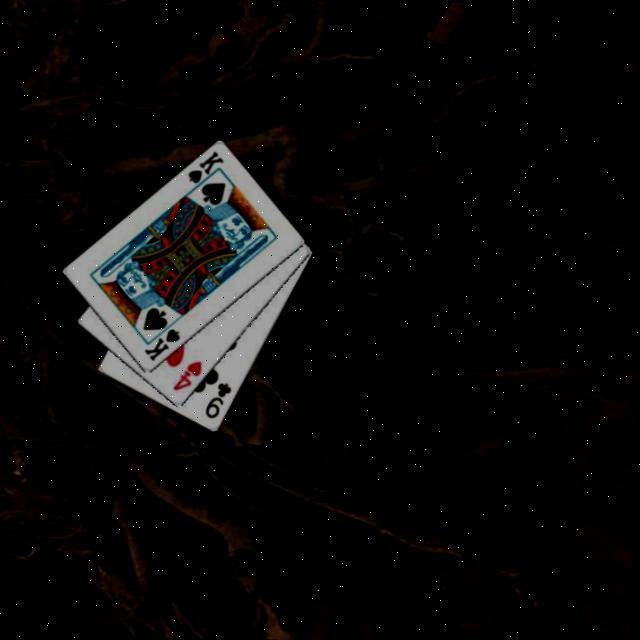4H: (168, 359, 204, 396)
9C: (200, 381, 232, 423)
KS: (182, 149, 224, 196), (140, 327, 180, 366)
